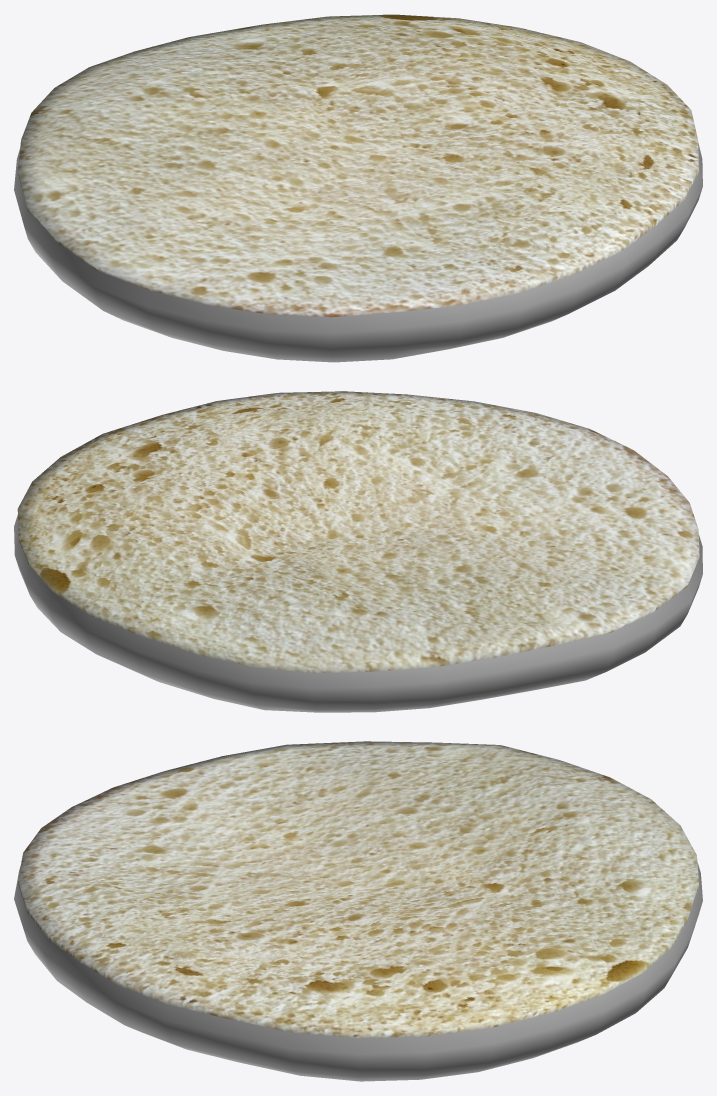
The model's file is Burger_lower_bread.fbx.
The picture shows the model from 3 angles, top to bottom: view 1: azimuth 30°, elevation 25°; view 2: azimuth 150°, elevation 25°; view 3: azimuth 270°, elevation 25°; orthographic projection. The views are drawn at different scales.
Parts seen in each view (by area): view 1: Sphere; view 2: Sphere; view 3: Sphere.
Part boxes in pixels (<box>): Sphere: <box>14,14,702,362</box>; Sphere: <box>14,391,702,712</box>; Sphere: <box>14,741,702,1081</box>.
Size of the model in its own units: 61.02 by 11.23 by 58.72.
